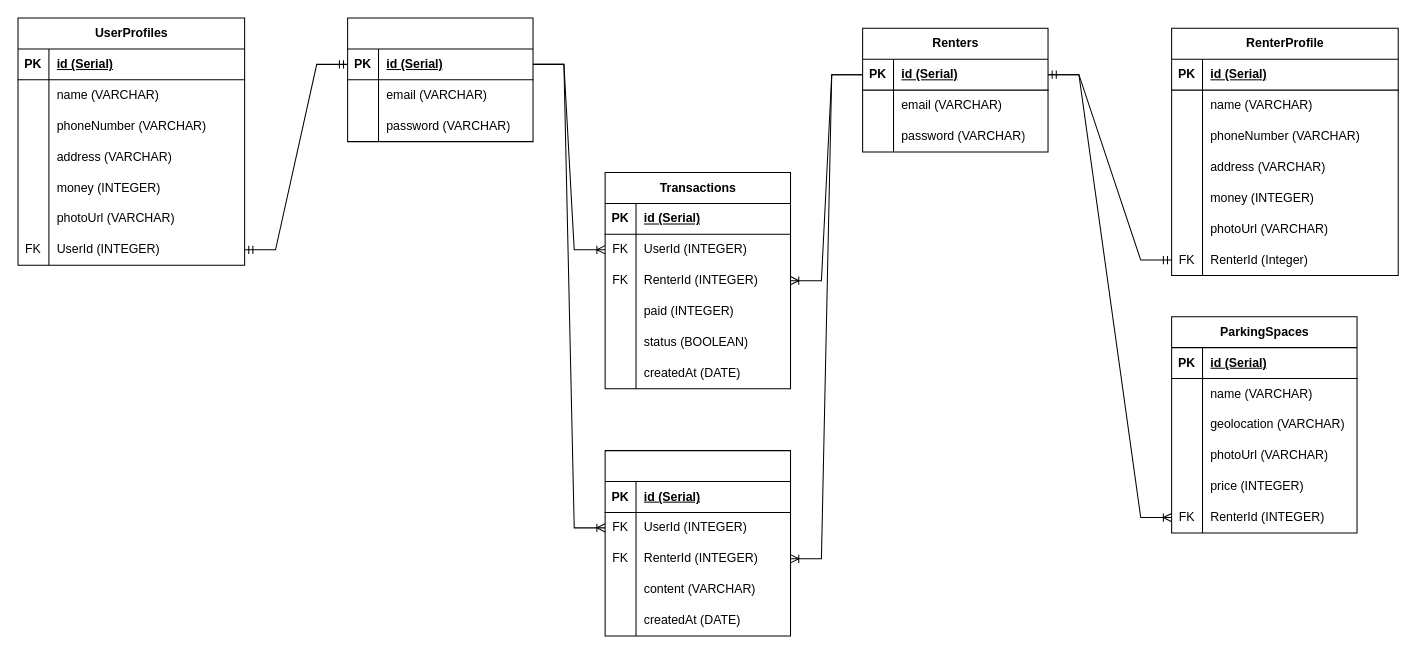
Image size: 1416x654. Some labels were removed from this diagram. Here are the shapes that lost their labels. From the top down, the box of each, then its label:
(347, 17, 533, 142): Users
(604, 450, 791, 636): Messages
